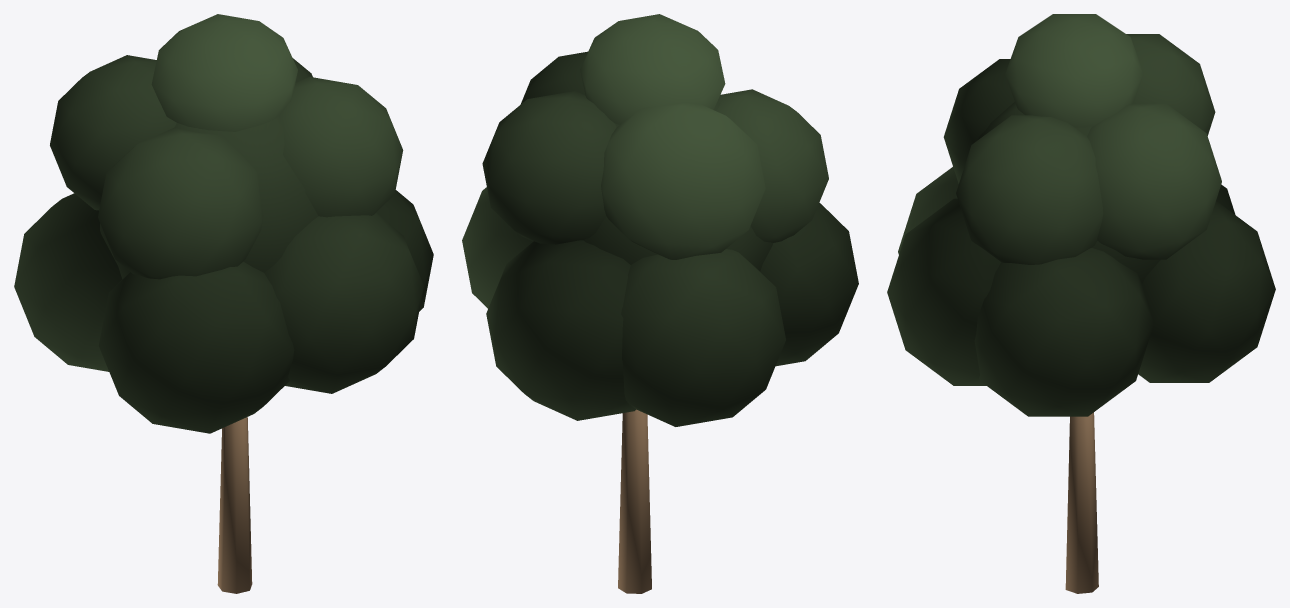
Rendered from scatter3.fbx.
3 renders of one model, left to right at view 1: azimuth 30°, elevation 25°; view 2: azimuth 150°, elevation 25°; view 3: azimuth 270°, elevation 25°, orthographic.
Visible parts, largest first — view 1: a2000/600/scatter3; view 2: a2000/600/scatter3; view 3: a2000/600/scatter3.
Part boxes in pixels (<box>): a2000/600/scatter3: <box>14,14,433,593</box>; a2000/600/scatter3: <box>462,14,858,593</box>; a2000/600/scatter3: <box>887,14,1275,593</box>.
Size of the model in its own units: 3.8 by 6.05 by 3.8.
